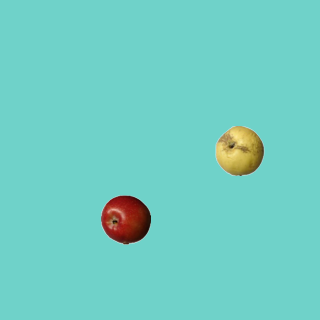Apple Braeburn: (100, 194, 150, 244)
Apple Golden 1: (214, 125, 264, 175)
